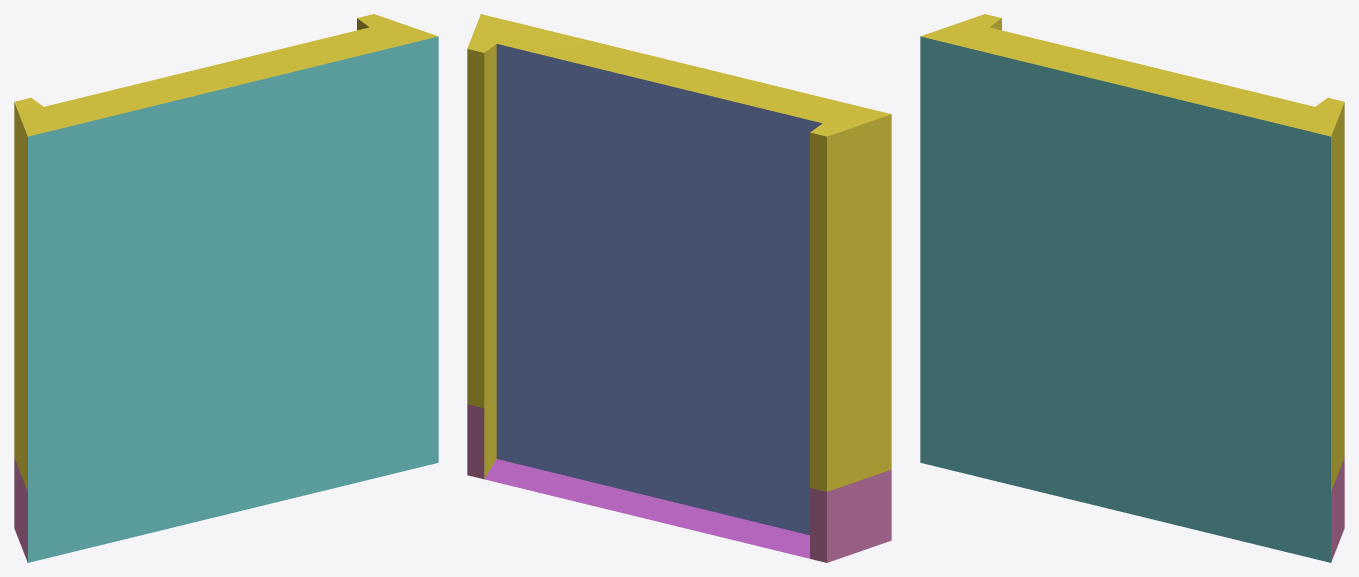
The model's file is garagedoor.fbx.
The picture shows the model from 3 angles, left to right: view 1: azimuth 30°, elevation 25°; view 2: azimuth 150°, elevation 25°; view 3: azimuth 330°, elevation 25°; orthographic projection.
Parts seen in each view (by area): view 1: garagedoor; view 2: garagedoor; view 3: garagedoor.
Part boxes in pixels (bbox=[...]): garagedoor: bbox=[14, 14, 438, 562]; garagedoor: bbox=[467, 14, 891, 562]; garagedoor: bbox=[920, 14, 1344, 562].
Bounding box in the file's own units: 24236 × 24031 × 4000.
